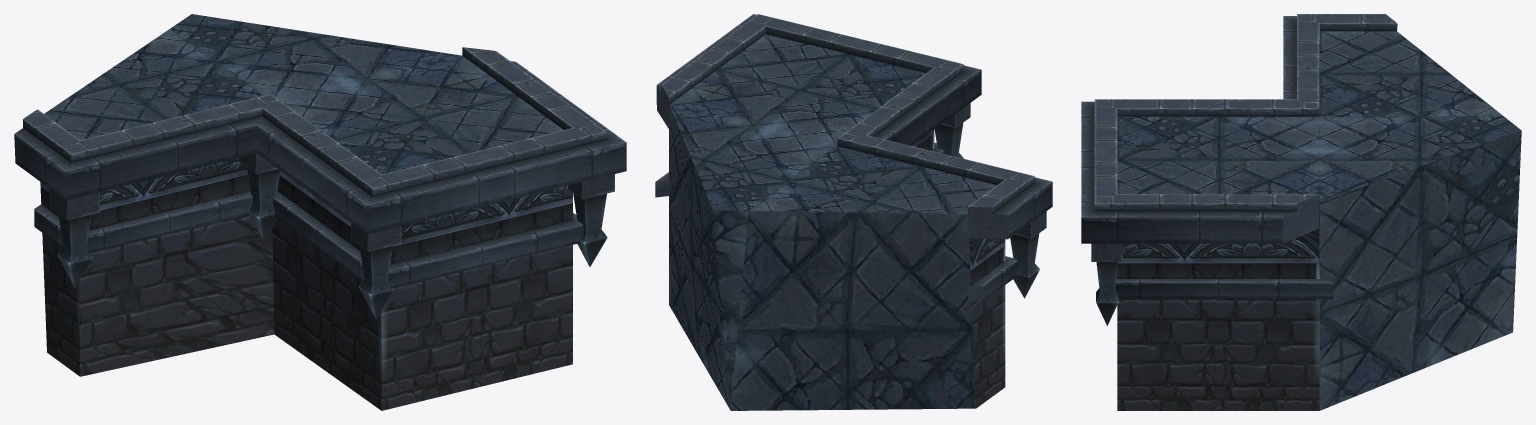
The model's file is Ice_platform09_02.FBX.
3 views of the same model, side by side, from view 1: azimuth 30°, elevation 25°; view 2: azimuth 150°, elevation 25°; view 3: azimuth 270°, elevation 25° (orthographic). The views are drawn at different scales.
Parts seen in each view (by area): view 1: Ice_platform09_02; view 2: Ice_platform09_02; view 3: Ice_platform09_02.
Boxes of the visible parts, bbox=[...] form: Ice_platform09_02: bbox=[14, 14, 626, 410]; Ice_platform09_02: bbox=[655, 14, 1052, 410]; Ice_platform09_02: bbox=[1081, 14, 1521, 410].
Bounding box in the file's own units: 1072 × 537 × 991.
